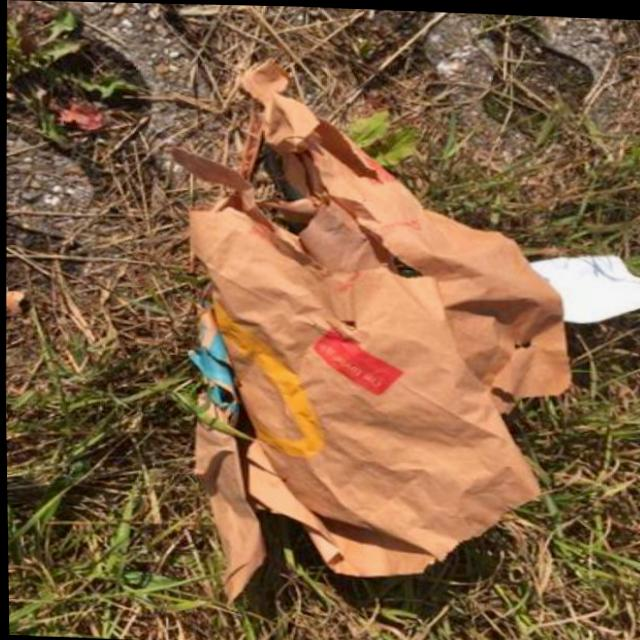Paper: (155, 50, 578, 618), (525, 249, 640, 323)
